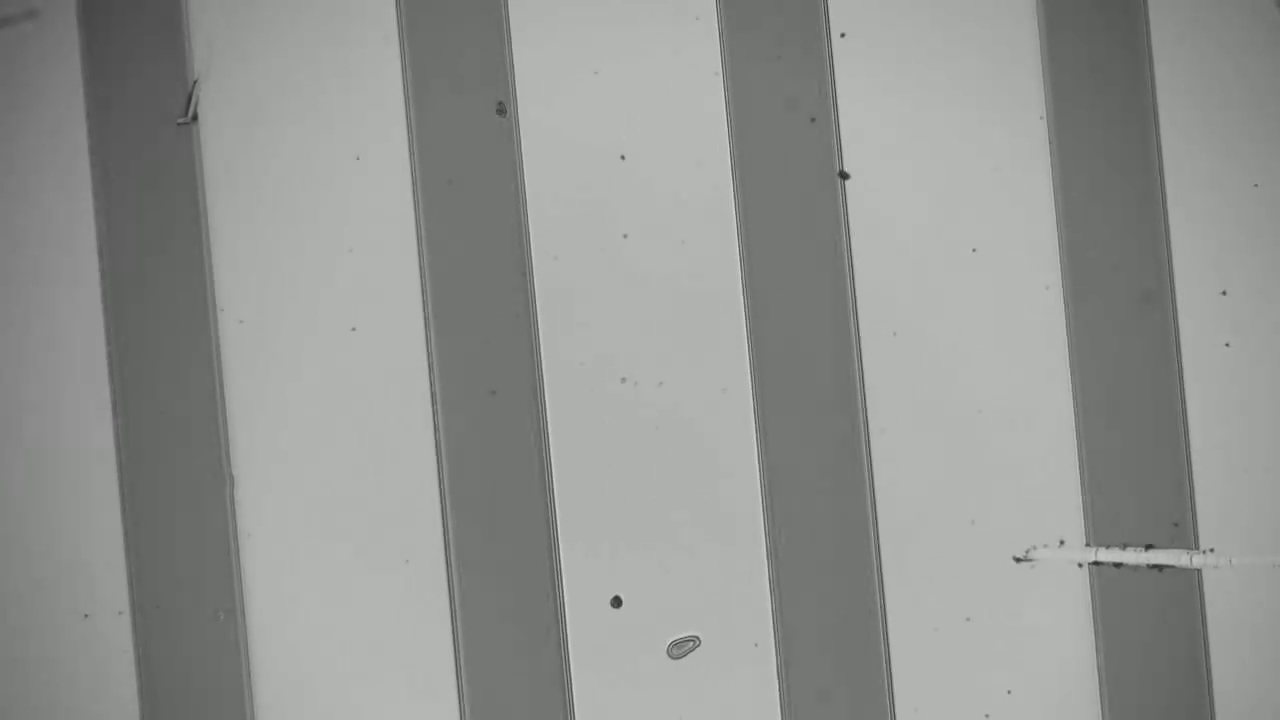Short_circuit: (1067, 521, 1239, 596)
